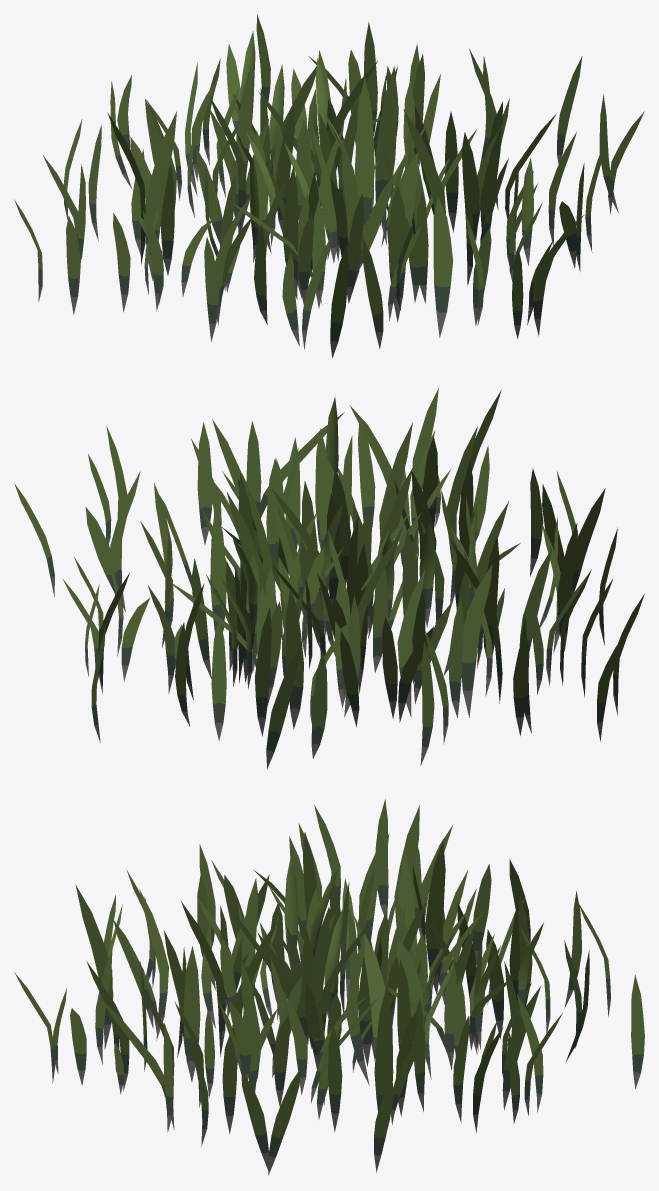
The model's file is GrassD.fbx.
The picture shows the model from 3 angles, top to bottom: view 1: azimuth 30°, elevation 25°; view 2: azimuth 150°, elevation 25°; view 3: azimuth 270°, elevation 25°; orthographic projection. The views are drawn at different scales.
Parts seen in each view (by area): view 1: GrassD; view 2: GrassD; view 3: GrassD.
Boxes of the visible parts, x1=… form: GrassD: x1=14, y1=14, x2=644, y2=357; GrassD: x1=14, y1=388, x2=644, y2=769; GrassD: x1=14, y1=799, x2=644, y2=1175.
Bounding box in the file's own units: 2.69 × 0.721 × 2.54.
